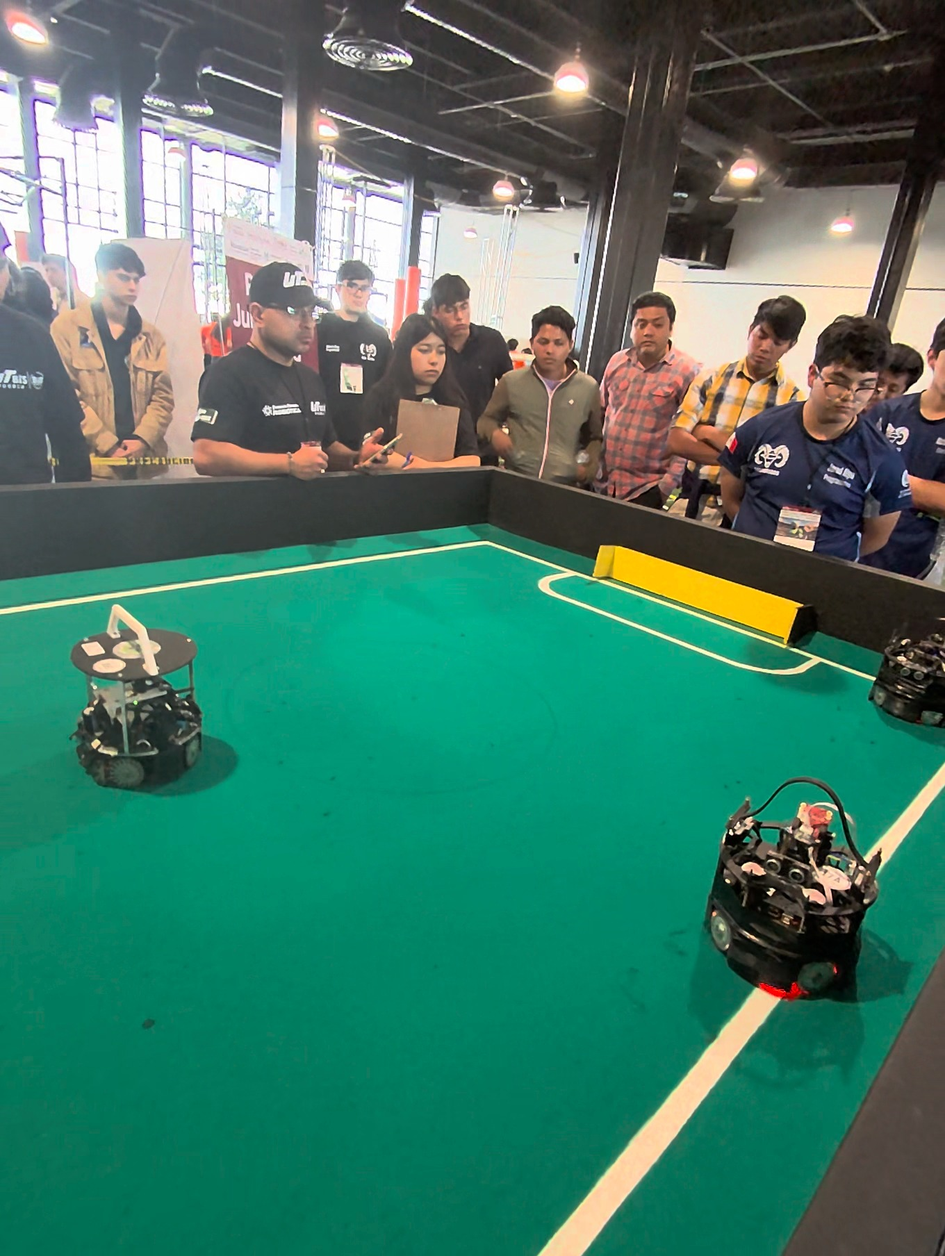Robot: (707, 760, 890, 1014), (61, 605, 208, 803), (873, 620, 945, 741)
